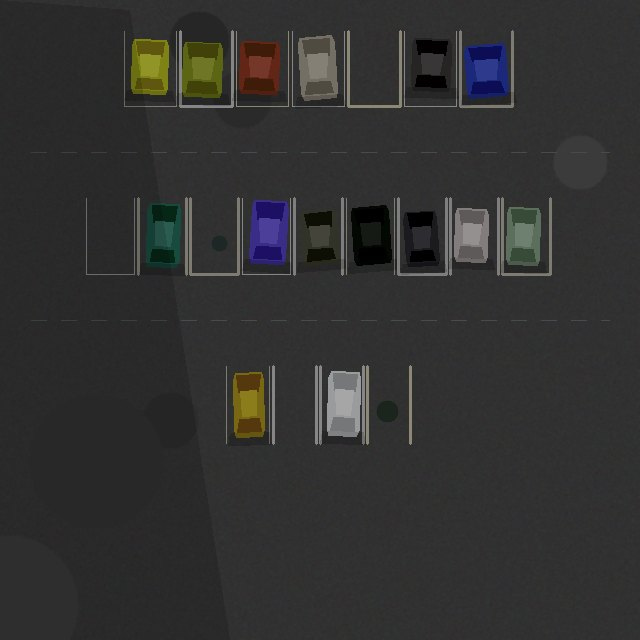space-empty: (348, 31, 400, 106), (86, 198, 134, 274), (190, 198, 238, 274), (273, 366, 316, 443), (367, 366, 410, 443)
space-occupied: (124, 31, 176, 106), (180, 31, 232, 106), (236, 31, 288, 106), (292, 31, 344, 106), (404, 31, 456, 106), (460, 31, 512, 106), (138, 198, 186, 274), (242, 198, 290, 274), (294, 198, 342, 274), (346, 198, 394, 274), (398, 198, 446, 274), (450, 198, 498, 274), (502, 198, 550, 274), (226, 366, 269, 443), (320, 366, 363, 443)
